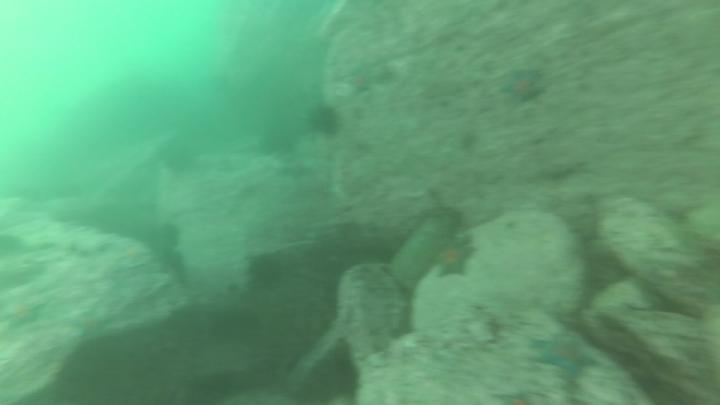echinus: (302, 102, 343, 140), (246, 256, 284, 291), (160, 144, 198, 177), (260, 128, 297, 158), (154, 221, 185, 250), (160, 246, 188, 275), (1, 233, 26, 264)
starfish: (528, 332, 601, 381), (498, 69, 550, 105), (434, 241, 478, 281), (3, 296, 48, 333), (67, 309, 113, 342), (113, 242, 154, 266)
